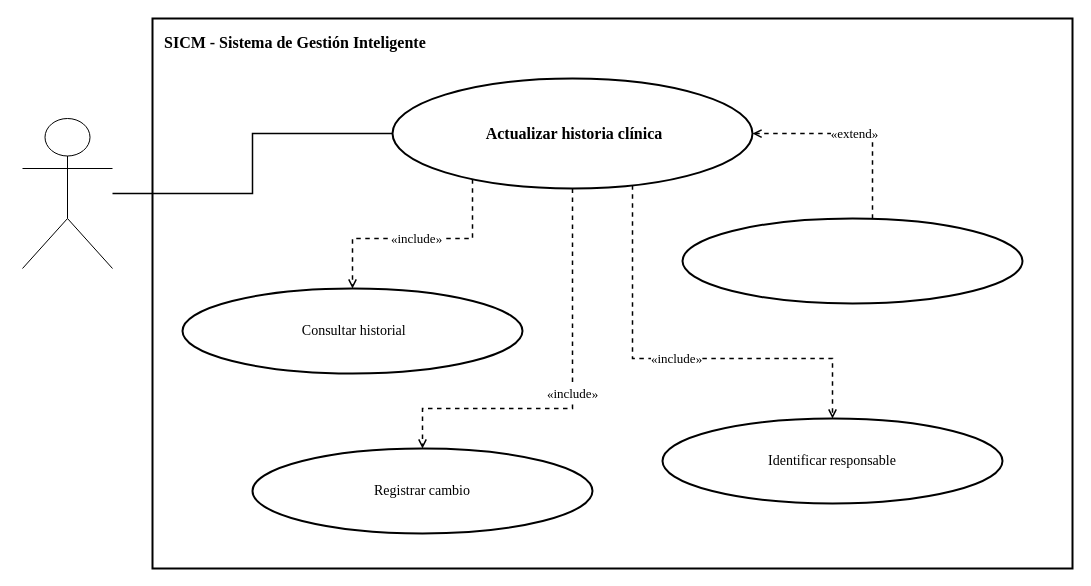
This 1091x586 diagram has some shape labels left out. The shapes that lost their labels are listed below. From the top down, each one's centre as x and y in pixels, then its label:
At (x=67, y=193): "Personal médico".
At (x=852, y=260): "Resolver conflicto de edición".
